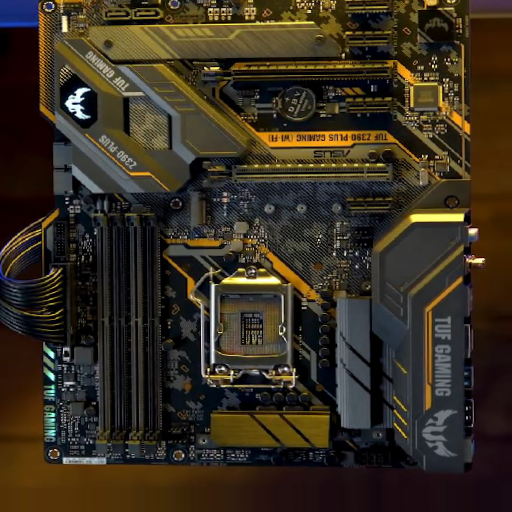CPU: (205, 267, 293, 389)
GPU: (201, 161, 396, 188), (194, 61, 399, 86)
MOTHERBOARD: (44, 1, 470, 467)
RAM: (95, 210, 164, 458)
SSD: (188, 189, 211, 230)
